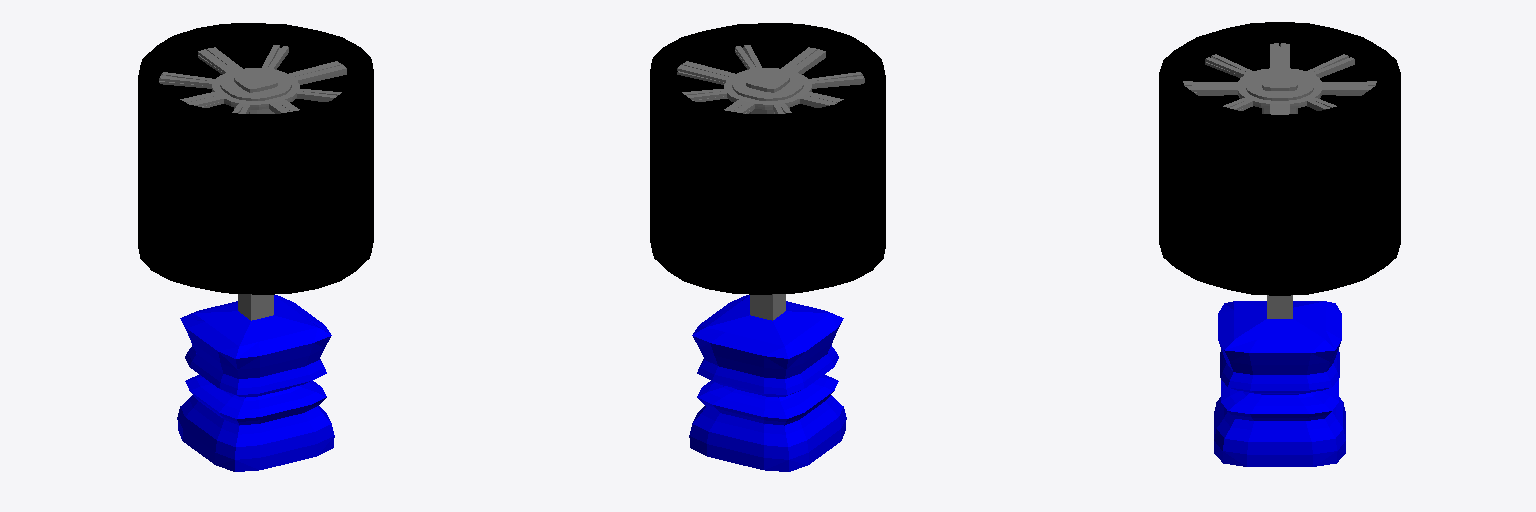
File: TextureLamp.obj
The picture shows the model from 3 angles: view 1: azimuth 30°, elevation 25°; view 2: azimuth 150°, elevation 25°; view 3: azimuth 270°, elevation 25°; orthographic projection.
Visible parts, largest first — view 1: pasted__pCube1; view 2: pasted__pCube1; view 3: pasted__pCube1.
Part boxes in pixels (bbox=[...]): pasted__pCube1: bbox=[138, 23, 373, 471]; pasted__pCube1: bbox=[650, 23, 885, 471]; pasted__pCube1: bbox=[1159, 22, 1400, 466].
Bounding box in the file's own units: 3.36 × 5.64 × 3.36.